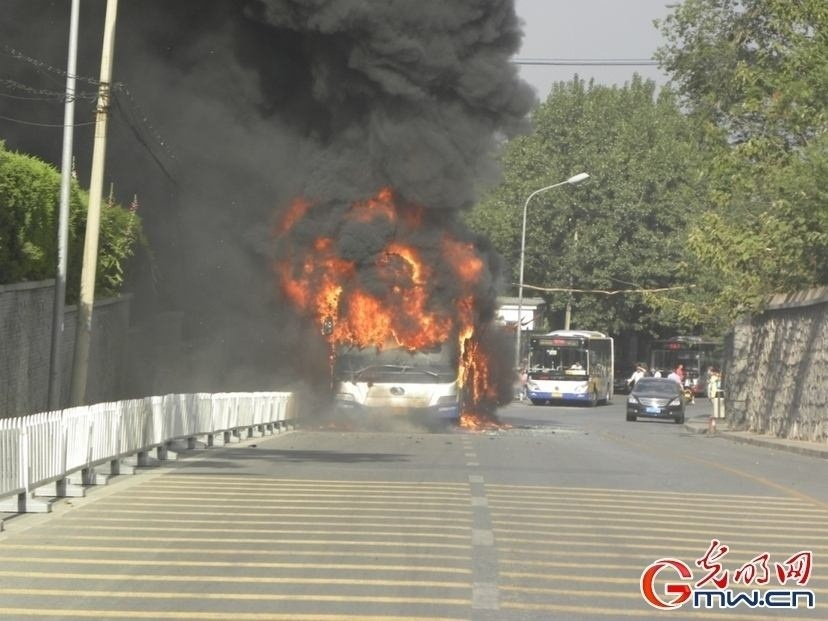fire: (289, 191, 504, 423)
